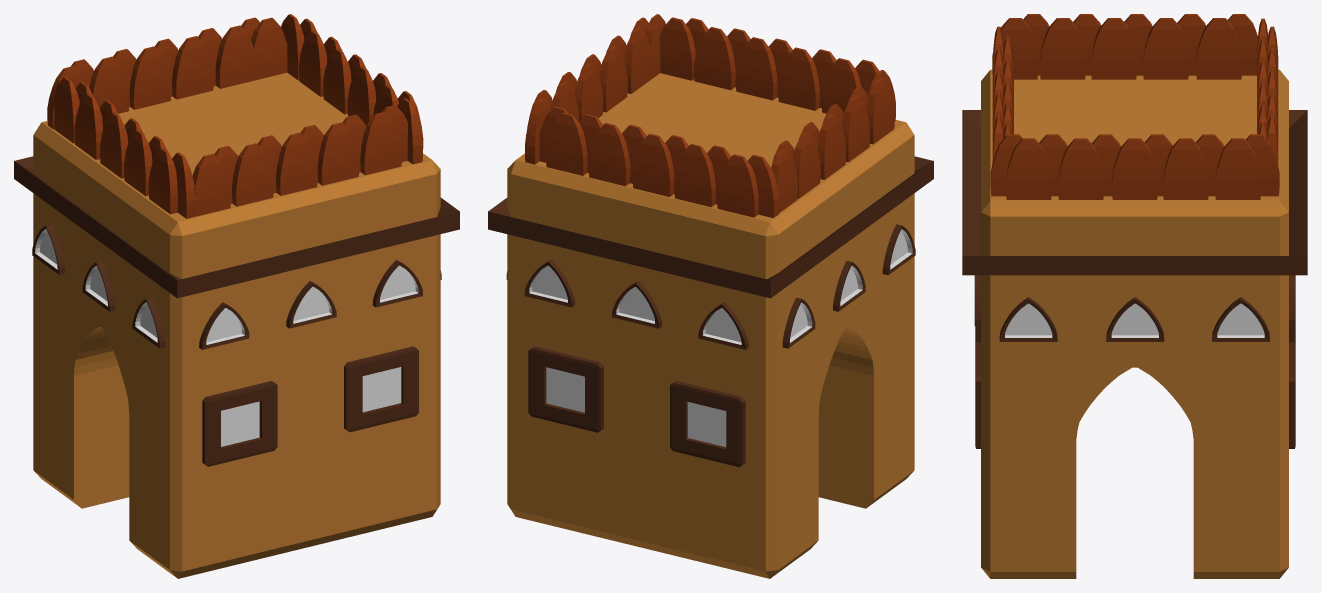
The model's file is temple-duzeltme-1.fbx.
3 views of the same model, side by side, from view 1: azimuth 30°, elevation 25°; view 2: azimuth 150°, elevation 25°; view 3: azimuth 270°, elevation 25° (orthographic). The views are drawn at different scales.
Parts seen in each view (by area): view 1: temple; view 2: temple; view 3: temple.
Part boxes in pixels (bbox=[...]): temple: bbox=[14, 14, 459, 578]; temple: bbox=[488, 14, 933, 578]; temple: bbox=[962, 14, 1307, 578].
Size of the model in its own units: 5.18 by 7.22 by 5.18.
